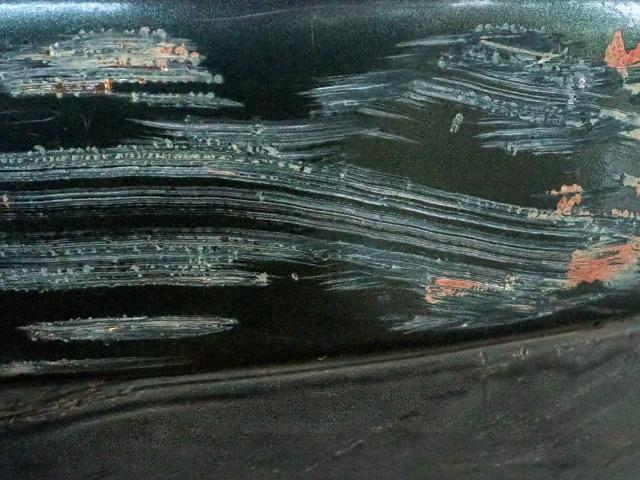scratch: (0, 6, 640, 421)
